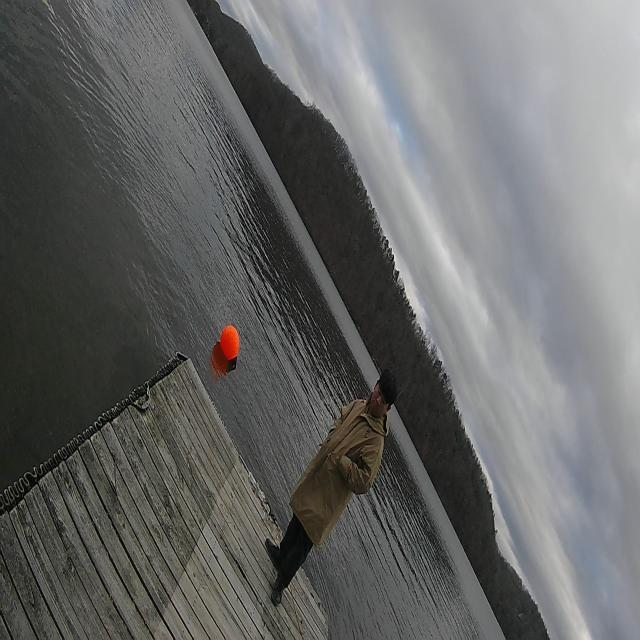Buoy: (219, 319, 241, 377)
